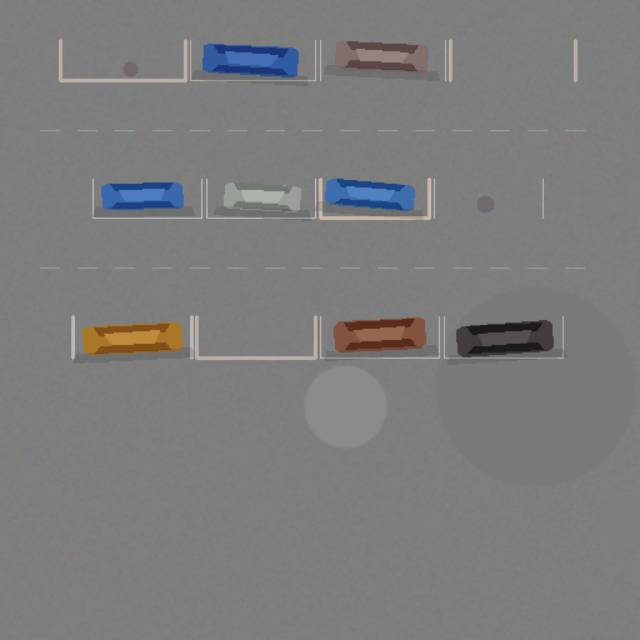space-empty: (60, 40, 185, 80), (450, 40, 575, 80), (196, 316, 315, 357), (434, 179, 542, 217)
space-occupied: (190, 40, 315, 80), (320, 40, 445, 80), (320, 316, 439, 357), (444, 316, 563, 357), (73, 316, 191, 357), (92, 179, 201, 217), (206, 179, 315, 217), (320, 179, 429, 217)
